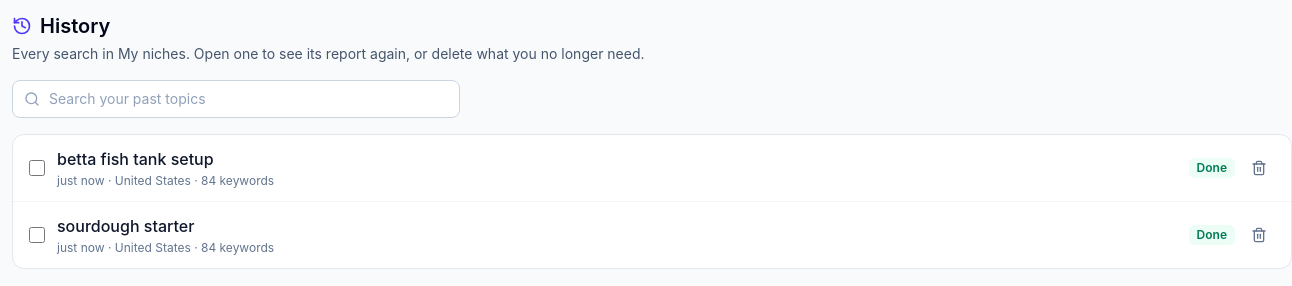
Test: history screen › searches by topic
The width and height of the screenshot is (1292, 286).
expect the text "sourdough starter" is shown: met, box x1=57 y1=216 x2=194 y2=236
Type "betta" into the search field named "Search history" at coordinates (236, 99), box x1=12 y1=80 x2=460 y2=118
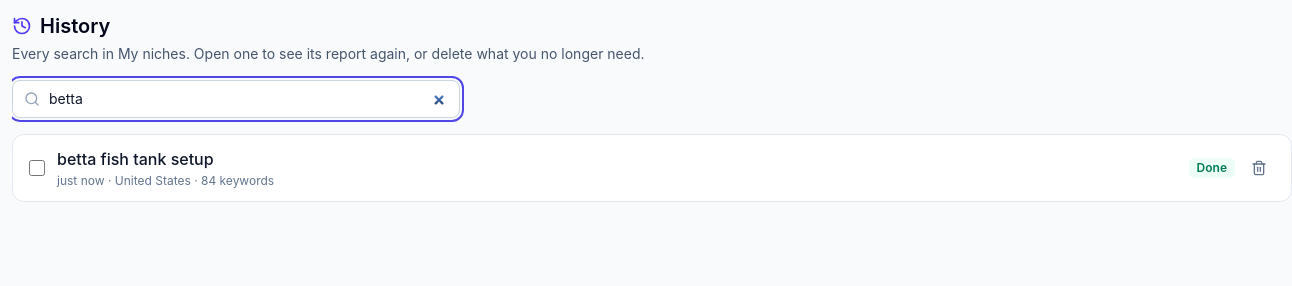
expect the text "betta fish tank setup" is shown: met, box x1=57 y1=149 x2=214 y2=169
expect the button "sourdough starter" is gone: met
